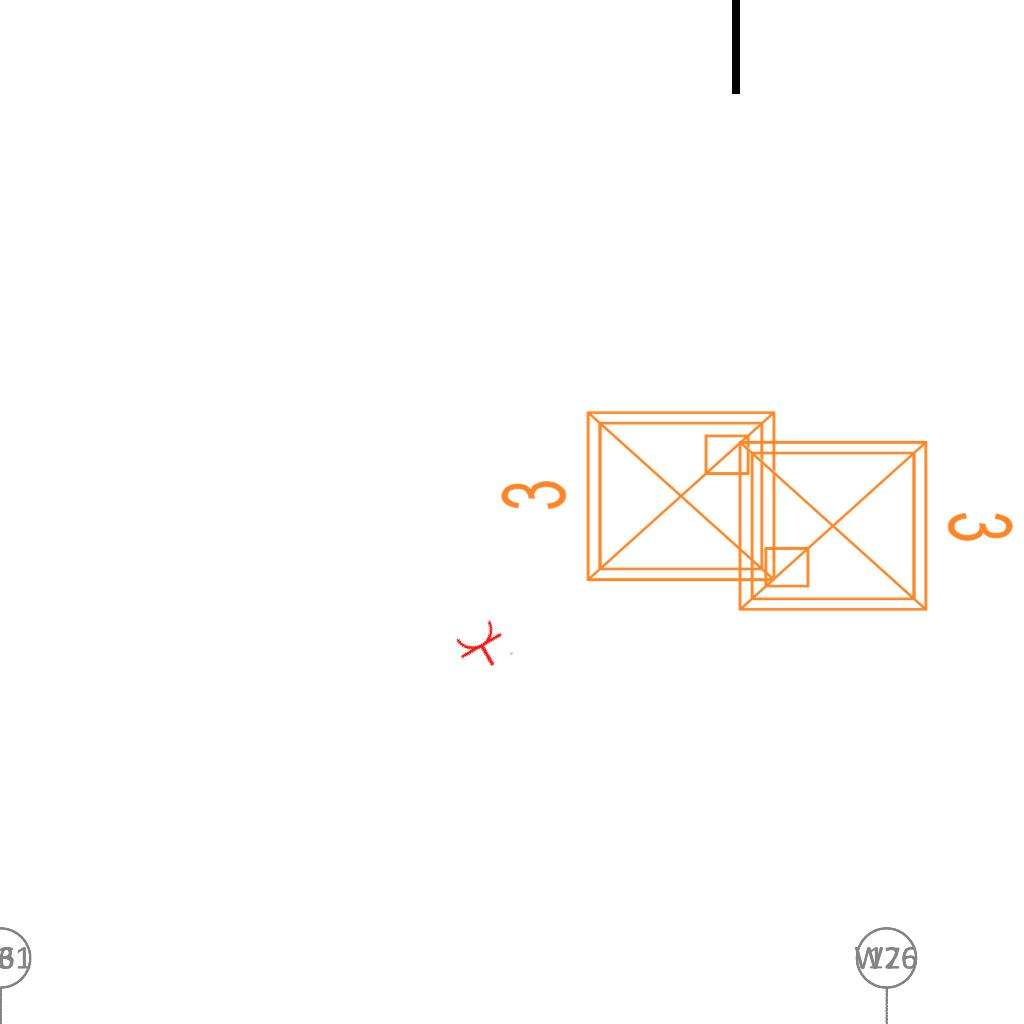Einbaudownlights_LED_Konferenzraeume: (490, 396, 790, 604), (724, 418, 1024, 626)
Schukosteckdose_einfach: (451, 615, 516, 679)
